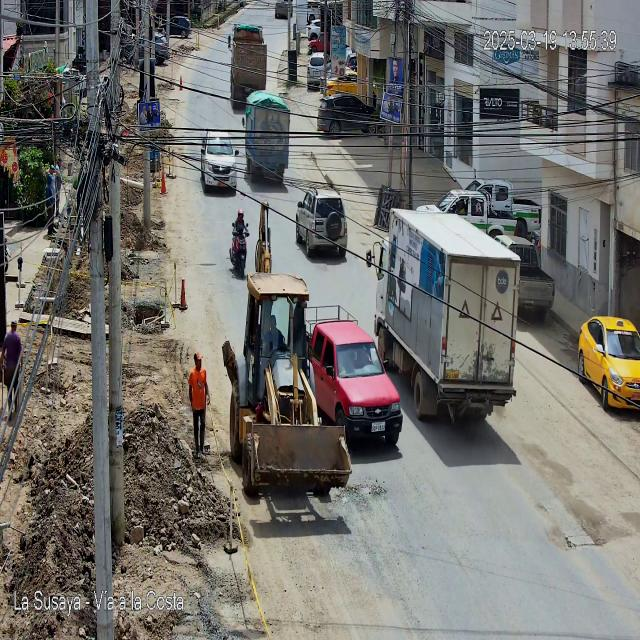CMT: (312, 320, 402, 448)
TRUCK: (375, 206, 521, 424), (222, 272, 352, 496)
